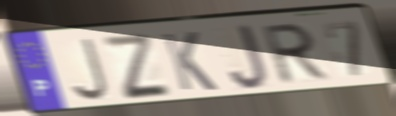7: (323, 19, 363, 78)
J: (227, 22, 270, 91), (68, 36, 111, 104)
K: (159, 30, 221, 93)
R: (260, 21, 333, 88)
Z: (98, 32, 174, 102)
